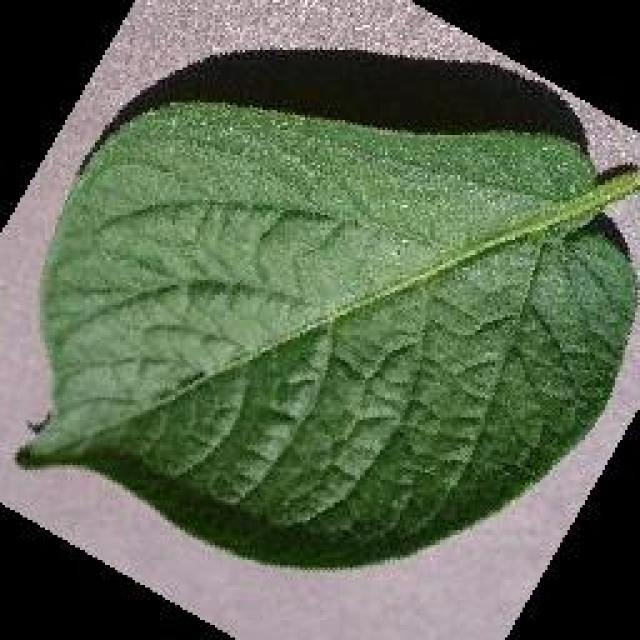Potato___healthy: (17, 103, 638, 568)
